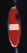No entry: (6, 5, 22, 48)
